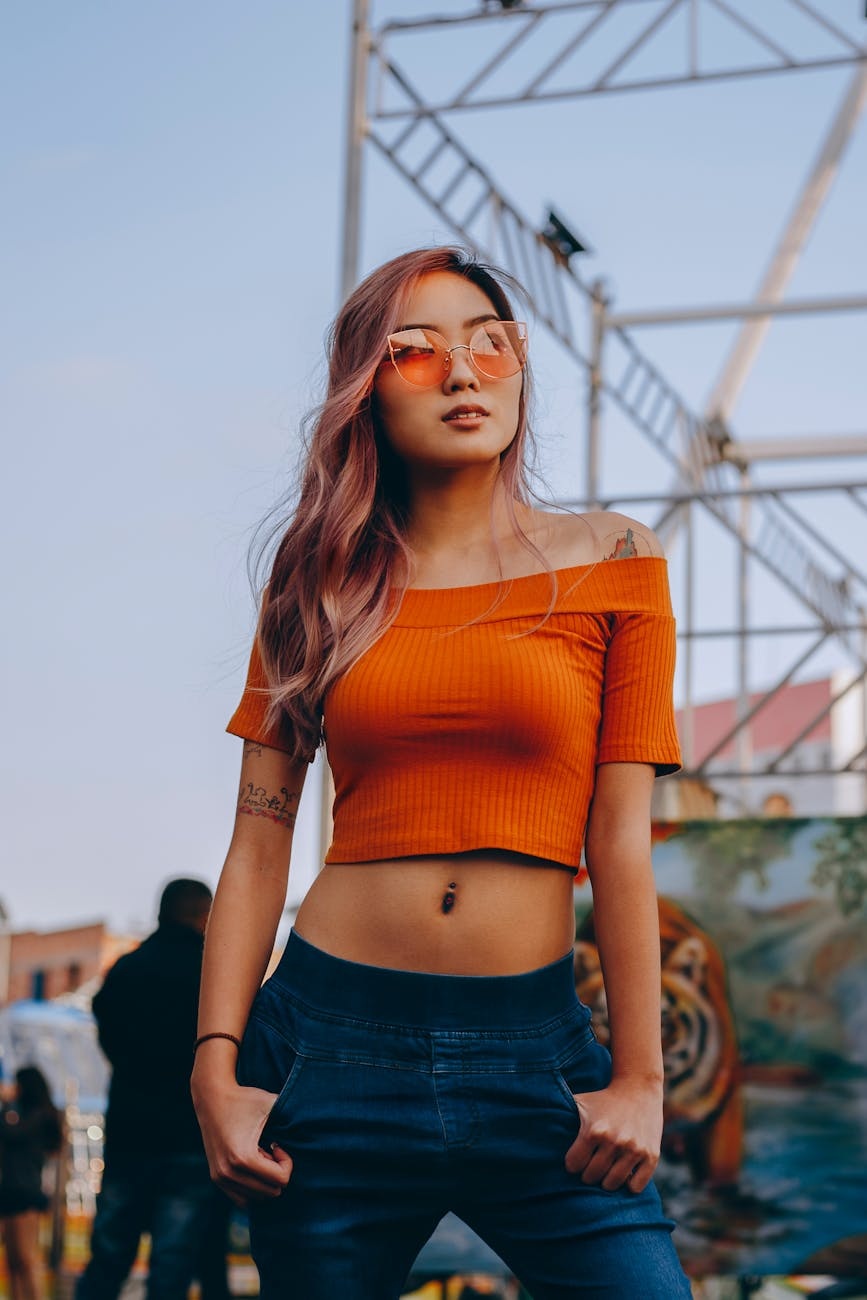crop_top: (276, 555, 653, 894)
